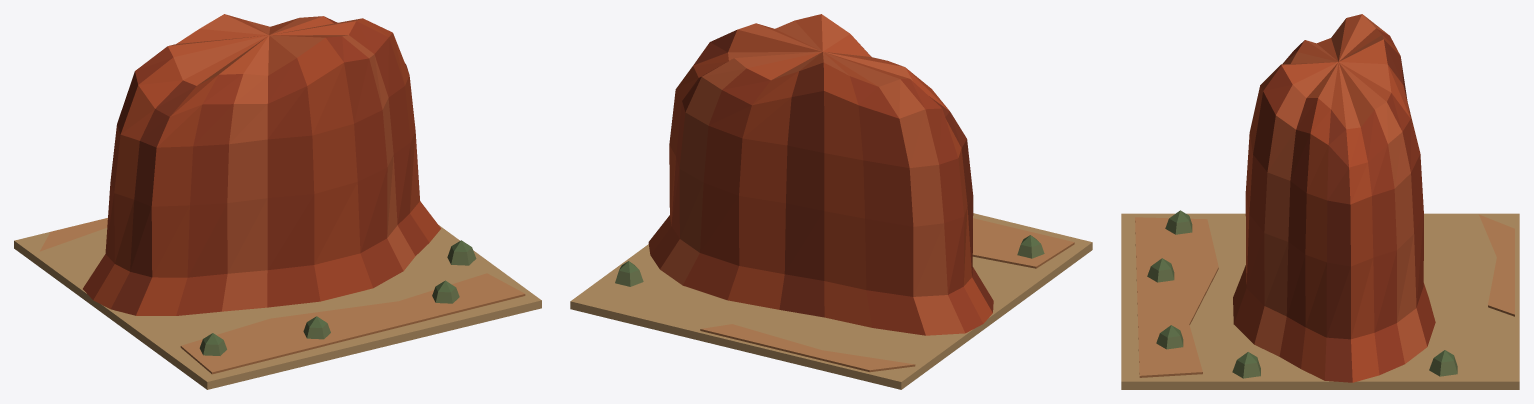
File: uluru.glb
3 renders of one model, left to right at view 1: azimuth 30°, elevation 25°; view 2: azimuth 150°, elevation 25°; view 3: azimuth 270°, elevation 25°, orthographic. The views are drawn at different scales.
Parts seen in each view (by area): view 1: uluru; view 2: uluru; view 3: uluru.
Boxes of the visible parts, x1,y1,x2,y2 form: uluru: (14, 14, 541, 389); uluru: (570, 14, 1092, 389); uluru: (1121, 14, 1519, 389).
Bounding box in the file's own units: 1.78 × 1.24 × 1.76.
